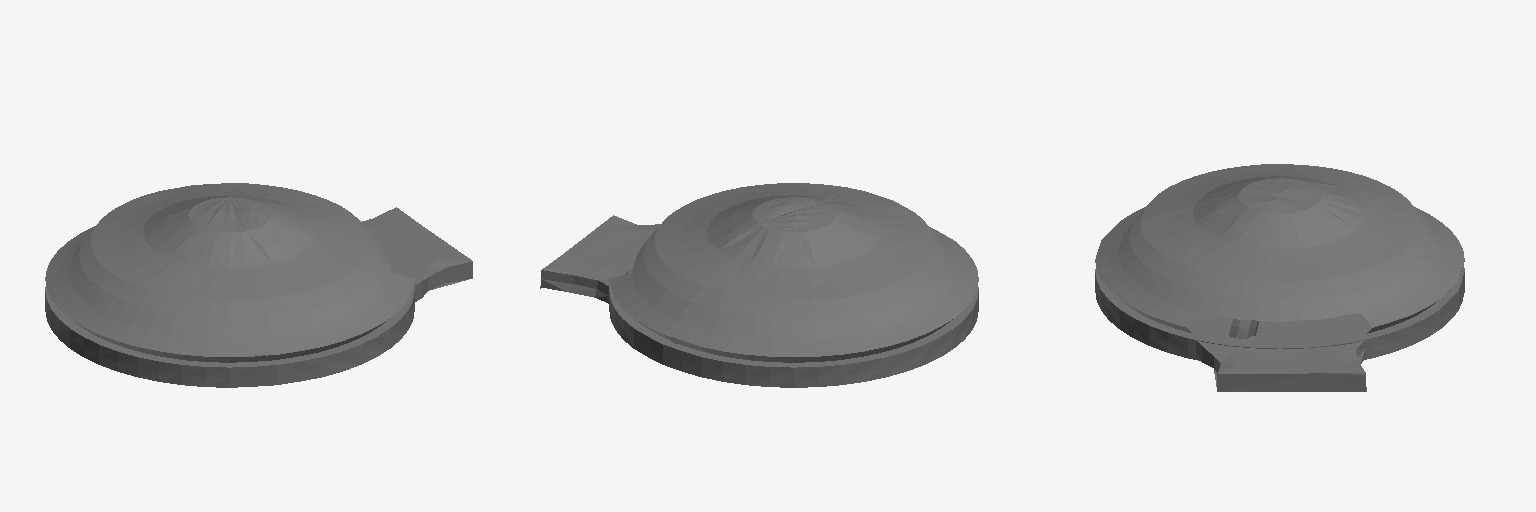
The model's file is CloneFactory_Base.obj.
The picture shows the model from 3 angles: view 1: azimuth 30°, elevation 25°; view 2: azimuth 150°, elevation 25°; view 3: azimuth 270°, elevation 25°; orthographic projection.
Parts seen in each view (by area): view 1: CloneFactory_Base.obj; view 2: CloneFactory_Base.obj; view 3: CloneFactory_Base.obj.
Boxes of the visible parts, <box> form: CloneFactory_Base.obj: <box>45,183,472,387</box>; CloneFactory_Base.obj: <box>540,183,978,387</box>; CloneFactory_Base.obj: <box>1095,164,1464,391</box>.
Size of the model in its own units: 1151 by 298 by 990.